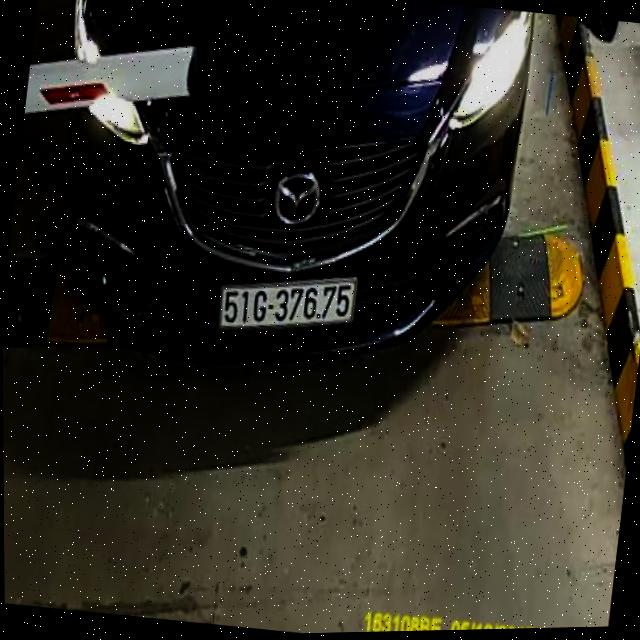car: (18, 0, 547, 412)
plate: (217, 262, 358, 347)
